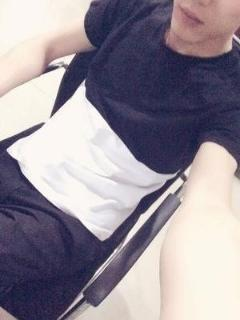short sleeve top: (6, 0, 239, 241)
